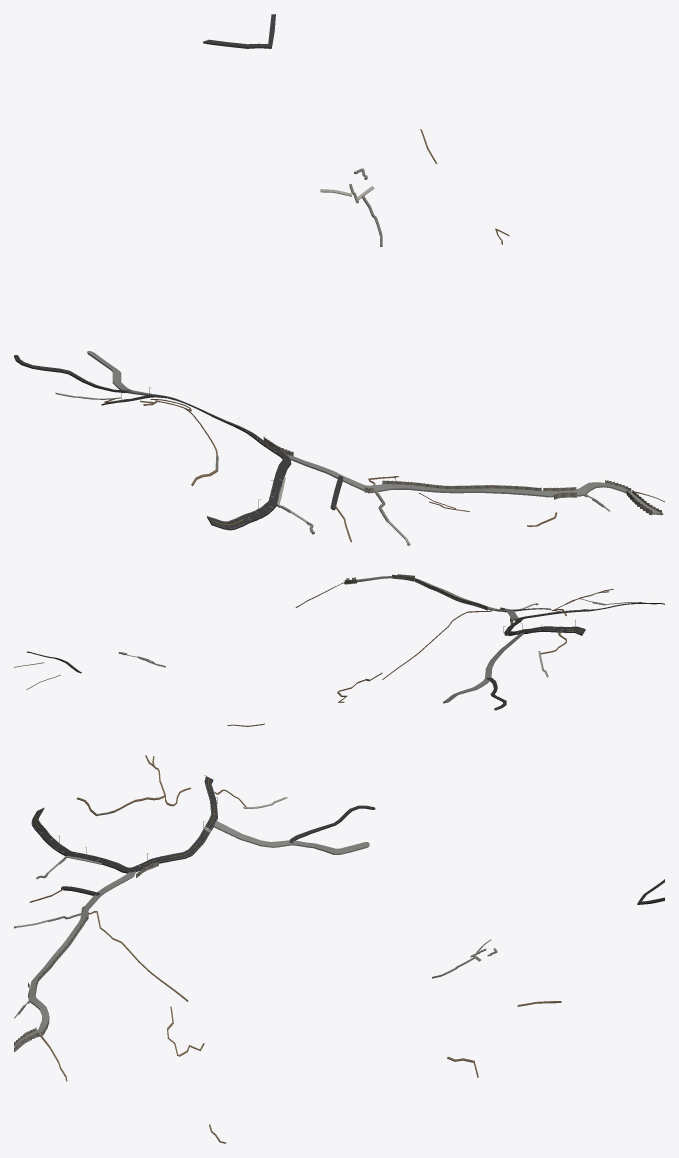
The model's file is 16-54727-29740.76e36cdb.glb.
The picture shows the model from 3 angles, top to bottom: view 1: azimuth 30°, elevation 25°; view 2: azimuth 150°, elevation 25°; view 3: azimuth 270°, elevation 25°; orthographic projection. The views are drawn at different scales.
Size of the model in its own units: 477 by 240 by 583.
